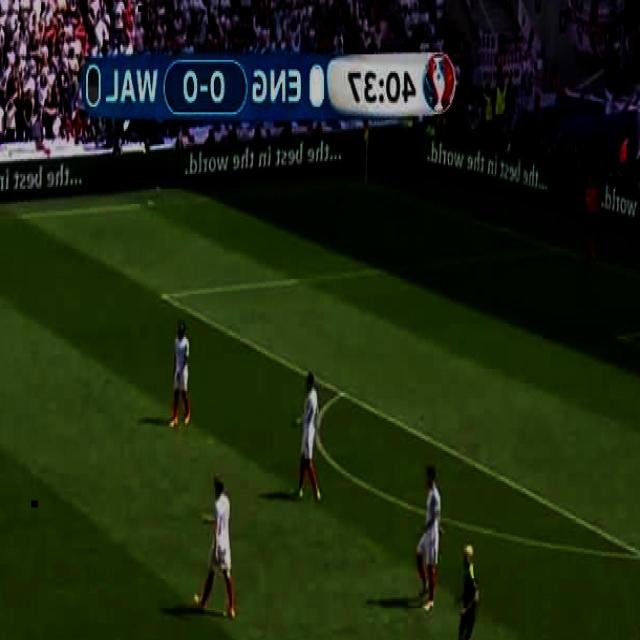player-white: (193, 479, 234, 619), (414, 466, 442, 616), (292, 372, 323, 501), (455, 540, 483, 640), (169, 320, 192, 428), (584, 173, 600, 262), (630, 600, 640, 640)
